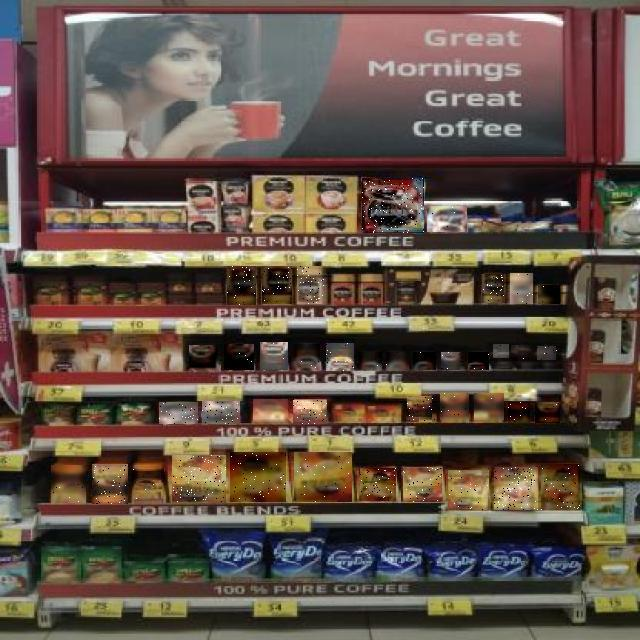Coffee: (362, 178, 424, 233), (294, 452, 352, 502), (231, 452, 287, 502), (172, 455, 226, 503), (494, 467, 538, 510), (542, 464, 582, 510), (448, 470, 489, 510), (92, 464, 128, 504), (403, 467, 442, 502), (51, 465, 86, 503), (359, 468, 396, 501), (133, 466, 165, 504), (262, 267, 292, 305), (227, 266, 256, 305), (298, 267, 326, 305), (427, 206, 467, 232), (202, 401, 240, 424), (254, 400, 290, 424), (159, 402, 198, 424), (293, 399, 327, 424), (474, 394, 504, 422), (440, 394, 469, 422), (260, 342, 288, 370), (326, 343, 354, 371), (224, 344, 254, 370), (190, 346, 220, 372), (408, 396, 436, 422), (510, 273, 533, 304), (294, 344, 320, 370), (482, 274, 504, 303), (535, 402, 560, 423), (508, 402, 530, 423), (386, 352, 409, 371), (358, 352, 382, 370), (538, 285, 560, 304), (413, 352, 436, 370), (442, 352, 464, 370), (468, 352, 489, 370), (511, 346, 531, 360), (538, 346, 558, 360), (493, 345, 509, 359)
